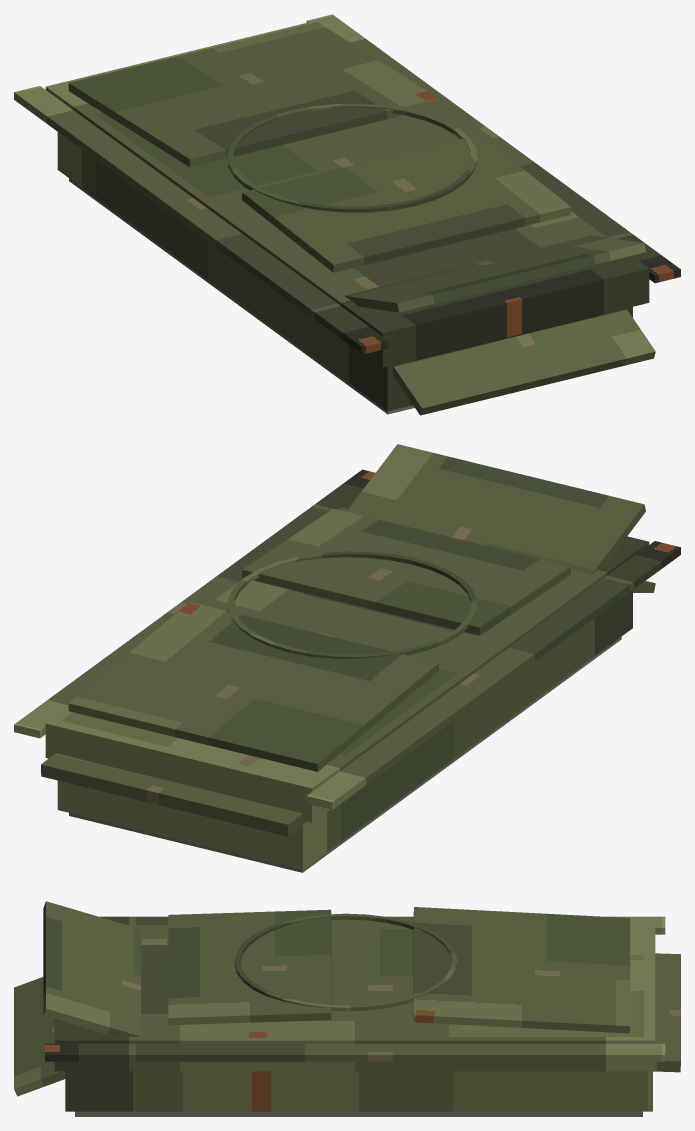
3 renders of one model, top to bottom at view 1: azimuth 30°, elevation 25°; view 2: azimuth 150°, elevation 25°; view 3: azimuth 270°, elevation 25°, orthographic. The views are drawn at different scales.
Parts seen in each view (by area): view 1: HullTub_upper_sponson, Engine_deck, Front_driver_deck, HullTub_lower_vana, Lower_front_plate, Fender_L_blockout, Glacis_upper_front_plate, Fender_R_blockout, TurretRing_marker, Hull_under_shadow; view 2: Engine_deck, HullTub_upper_sponson, Front_driver_deck, Glacis_upper_front_plate, HullTub_lower_vana, Fender_L_blockout, Rear_plate, Fender_R_blockout, TurretRing_marker, Hull_under_shadow; view 3: HullTub_upper_sponson, Engine_deck, HullTub_lower_vana, Front_driver_deck, Fender_R_blockout, Glacis_upper_front_plate, Lower_front_plate, Hull_under_shadow, TurretRing_marker, Rear_plate, Fender_L_blockout.
Boxes of the visible parts, x1,y1,x2,y2 form: HullTub_upper_sponson: [45, 21, 649, 367]; Engine_deck: [68, 22, 439, 167]; Front_driver_deck: [242, 134, 570, 272]; HullTub_lower_vana: [57, 132, 632, 411]; Lower_front_plate: [393, 309, 655, 415]; Fender_L_blockout: [14, 86, 388, 354]; Glacis_upper_front_plate: [344, 235, 645, 312]; Fender_R_blockout: [306, 14, 680, 283]; TurretRing_marker: [227, 103, 477, 212]; Hull_under_shadow: [69, 178, 414, 414]; Engine_deck: [68, 602, 439, 771]; HullTub_upper_sponson: [45, 494, 649, 822]; Front_driver_deck: [242, 508, 570, 635]; Glacis_upper_front_plate: [346, 444, 645, 574]; HullTub_lower_vana: [57, 590, 632, 869]; Fender_L_blockout: [306, 541, 680, 809]; Rear_plate: [41, 753, 306, 836]; Fender_R_blockout: [14, 469, 375, 738]; TurretRing_marker: [227, 551, 477, 658]; Hull_under_shadow: [69, 637, 621, 872]; HullTub_upper_sponson: [54, 925, 655, 1071]; Engine_deck: [413, 907, 630, 1033]; HullTub_lower_vana: [65, 1071, 652, 1111]; Front_driver_deck: [168, 909, 331, 1025]; Fender_R_blockout: [45, 1043, 665, 1061]; Glacis_upper_front_plate: [43, 901, 140, 1036]; Lower_front_plate: [14, 977, 65, 1096]; Hull_under_shadow: [75, 1111, 642, 1116]; TurretRing_marker: [234, 913, 457, 1011]; Rear_plate: [653, 953, 680, 1072]; Fender_L_blockout: [99, 916, 665, 934].
Size of the model in its own units: 3.3 by 1.24 by 6.72.
Materials: 2 (1 with a texture image).
